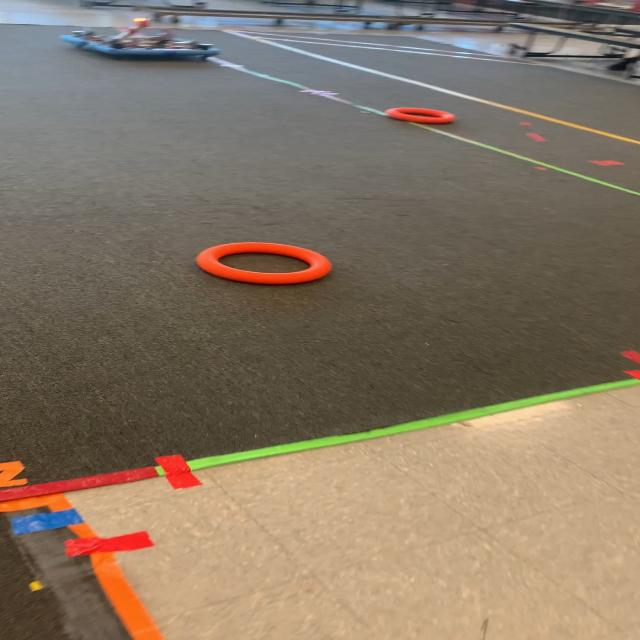notes: (198, 242, 332, 285), (387, 108, 456, 126)
